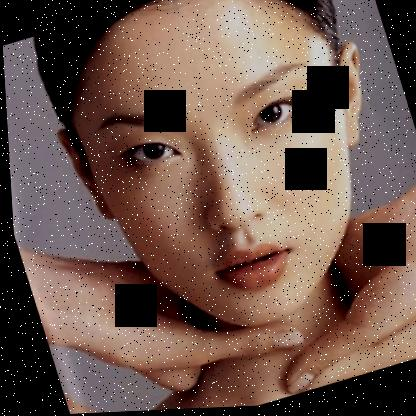Female: (26, 0, 416, 368)
